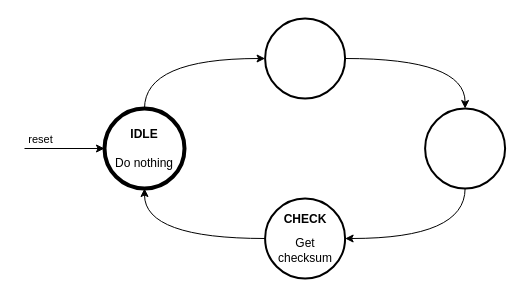
The diagram is 524 pixels wide and 296 high, and some of its shapes have lost their labels. Each missing label, with the centre of its shape:
"HUMID Get humidity" belongs at point (305, 58).
"TEMP Get temperature" belongs at point (465, 148).
